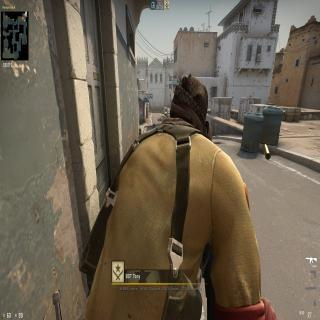T-Head: (169, 68, 215, 143)
